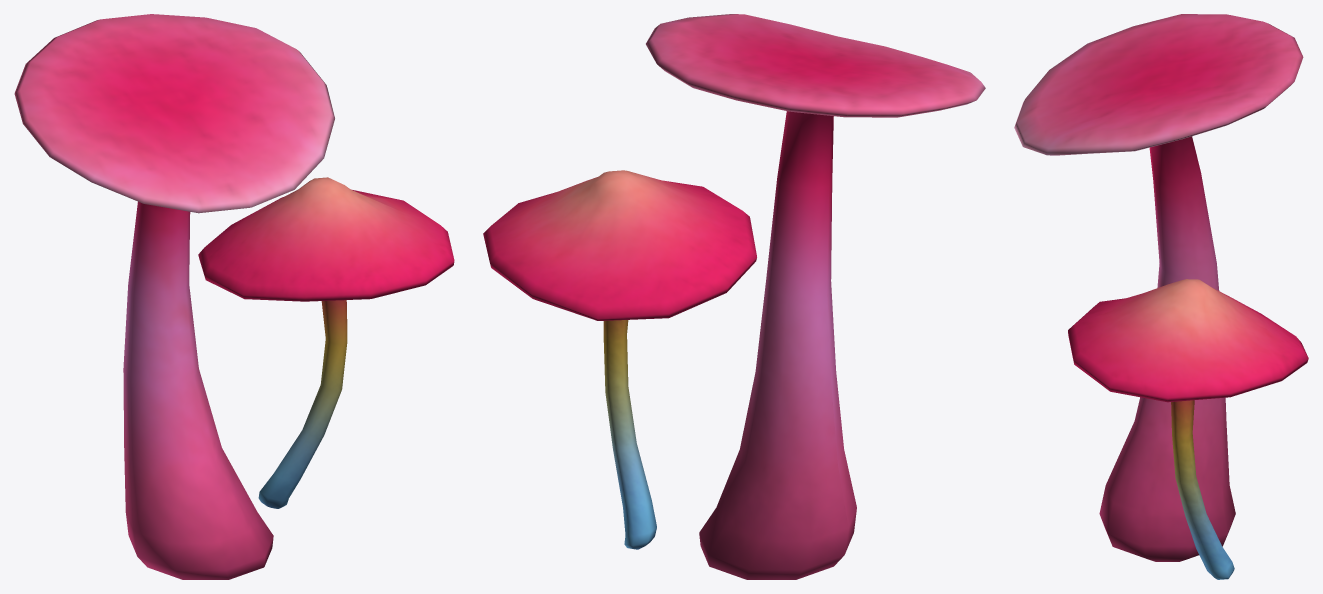
The model's file is Cartoon Seaweed_13-2-16.fbx.
3 renders of one model, left to right at view 1: azimuth 30°, elevation 25°; view 2: azimuth 150°, elevation 25°; view 3: azimuth 270°, elevation 25°, orthographic. The views are drawn at different scales.
Visible parts, largest first — view 1: Cartoon Seaweed_13.2.16; view 2: Cartoon Seaweed_13.2.16; view 3: Cartoon Seaweed_13.2.16.
Part boxes in pixels (x1,y1,x2,y2): Cartoon Seaweed_13.2.16: (14,14,454,579); Cartoon Seaweed_13.2.16: (483,14,985,579); Cartoon Seaweed_13.2.16: (1014,14,1308,579).
Size of the model in its own units: 11.91 by 13.81 by 7.76.
Materials: 1 (1 with a texture image).
